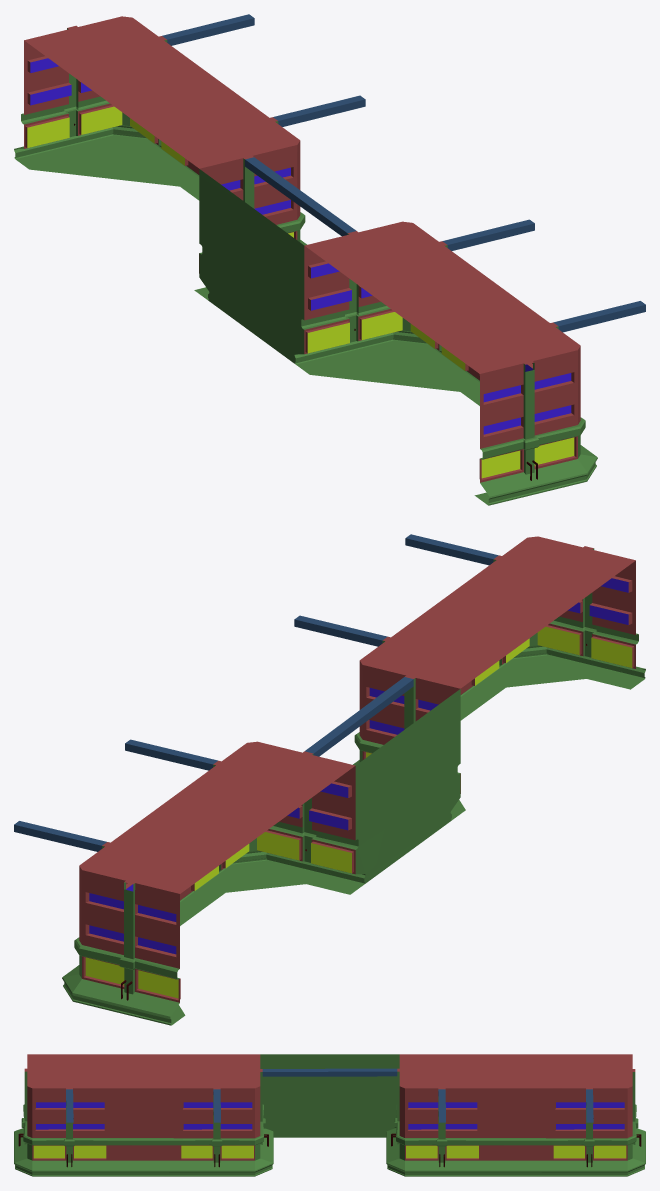
File: structure_upper_straight.FBX
3 views of the same model, one above another, from view 1: azimuth 30°, elevation 25°; view 2: azimuth 150°, elevation 25°; view 3: azimuth 270°, elevation 25° (orthographic). The views are drawn at different scales.
Visible parts, largest first — view 1: intersection011; view 2: intersection011; view 3: intersection011.
Part boxes in pixels (x1,y1,x2,y2): intersection011: (14, 14, 645, 505); intersection011: (14, 534, 645, 1025); intersection011: (14, 1054, 645, 1176).
Size of the model in its own units: 479 by 293 by 2017.
